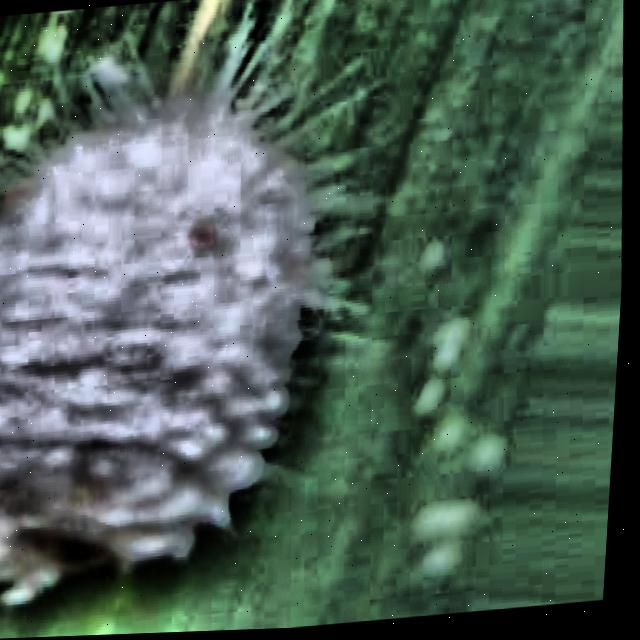Mealy-bug: (0, 0, 445, 640)
